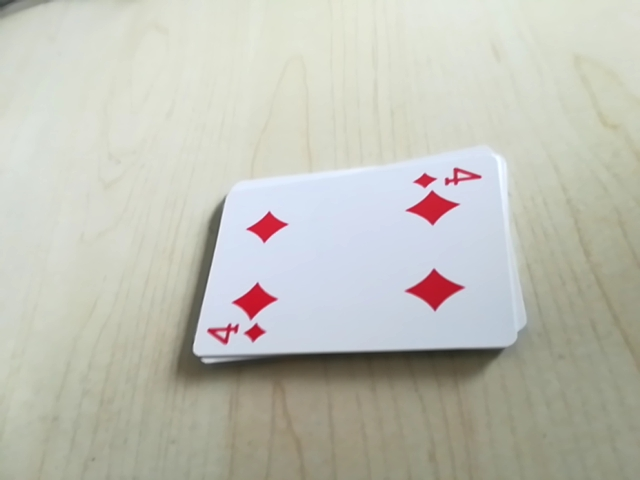fk 4: (410, 158, 491, 193), (199, 322, 275, 356)
